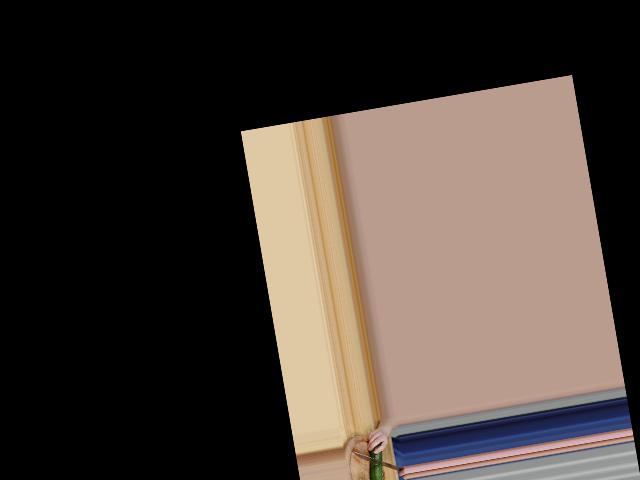cucumber: (364, 443, 389, 480)
